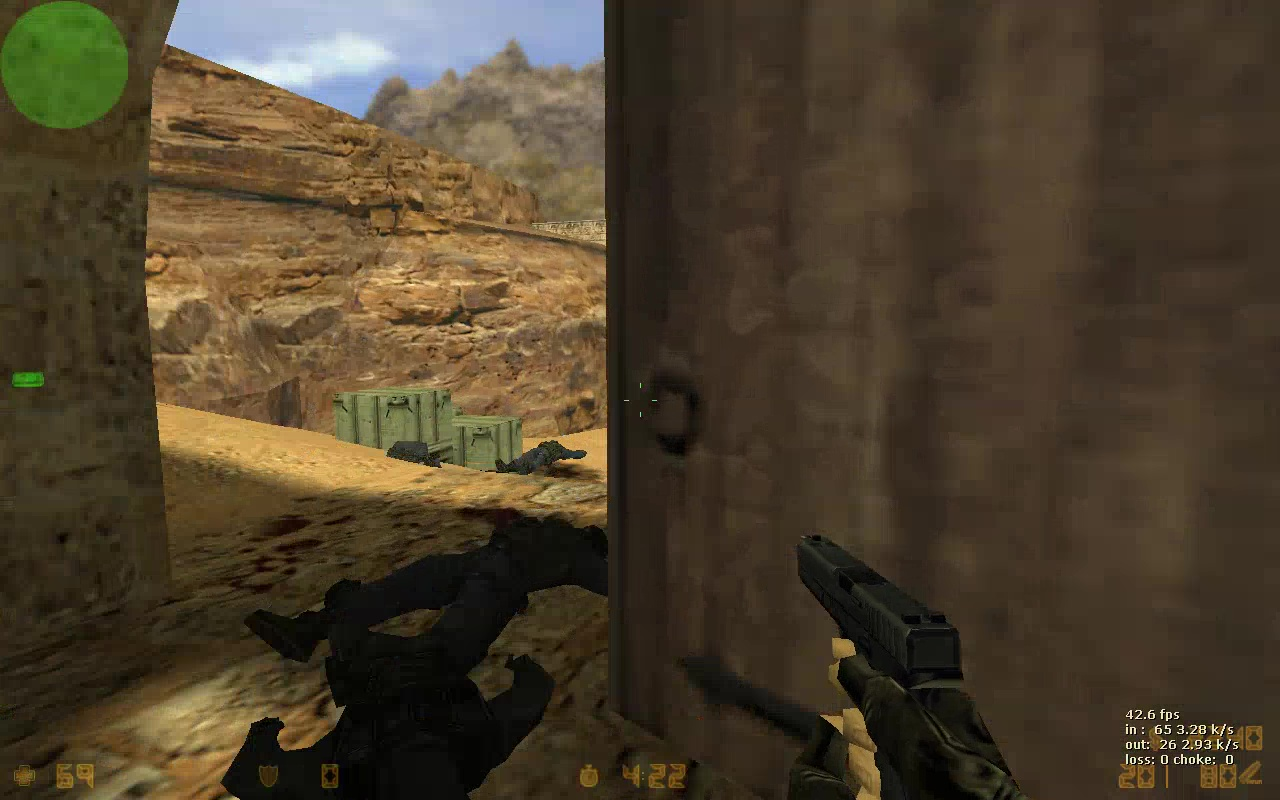dead: (256, 520, 609, 666), (495, 437, 586, 482)
